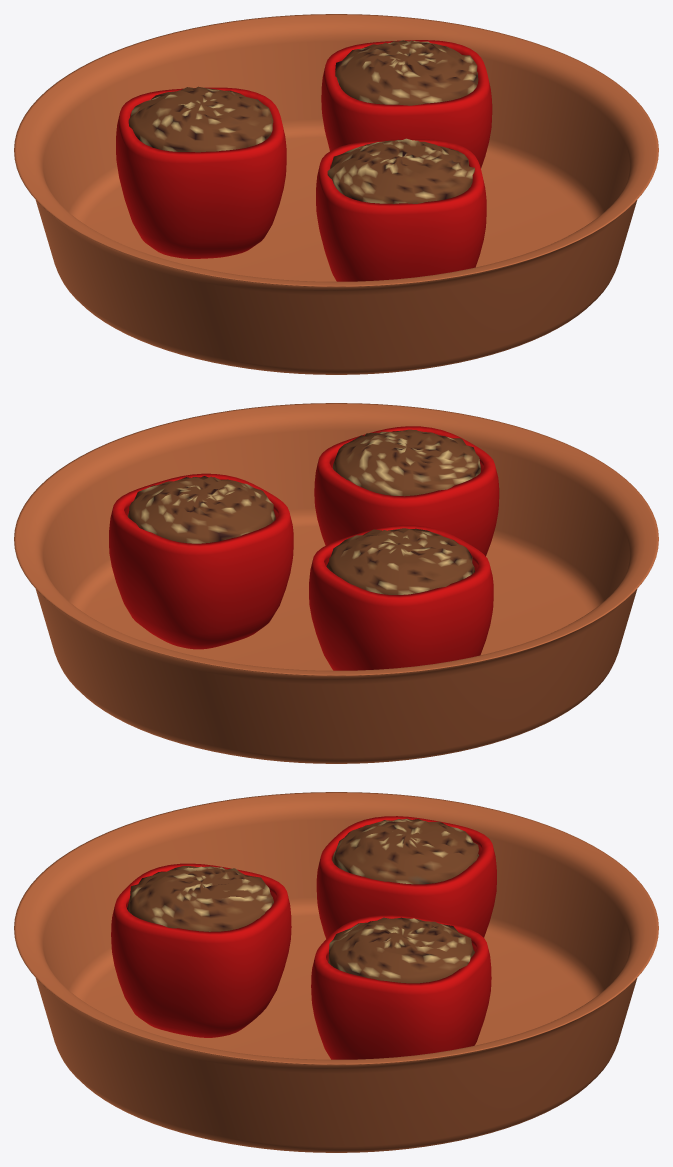
The model's file is paso-3.glb.
The picture shows the model from 3 angles, top to bottom: view 1: azimuth 30°, elevation 25°; view 2: azimuth 150°, elevation 25°; view 3: azimuth 270°, elevation 25°; orthographic projection.
Parts seen in each view (by area): view 1: paso-3-0, paso-3-3, paso-3-5, paso-3-1, paso-3-6, paso-3-4, paso-3-2; view 2: paso-3-0, paso-3-1, paso-3-3, paso-3-5, paso-3-6, paso-3-2, paso-3-4; view 3: paso-3-0, paso-3-5, paso-3-1, paso-3-3, paso-3-6, paso-3-2, paso-3-4.
Part boxes in pixels (left/top/right/bottom): paso-3-0: left=14, top=14, right=658, bottom=374; paso-3-3: left=116, top=87, right=286, bottom=258; paso-3-5: left=316, top=139, right=486, bottom=281; paso-3-1: left=321, top=40, right=492, bottom=168; paso-3-6: left=327, top=138, right=474, bottom=203; paso-3-4: left=128, top=86, right=273, bottom=152; paso-3-2: left=335, top=40, right=478, bottom=105; paso-3-0: left=14, top=403, right=658, bottom=763; paso-3-1: left=109, top=473, right=293, bottom=649; paso-3-3: left=309, top=525, right=493, bottom=670; paso-3-5: left=314, top=426, right=499, bottom=556; paso-3-6: left=332, top=429, right=480, bottom=496; paso-3-2: left=127, top=476, right=275, bottom=543; paso-3-4: left=326, top=528, right=474, bottom=594; paso-3-0: left=14, top=792, right=658, bottom=1152; paso-3-5: left=111, top=863, right=291, bottom=1037; paso-3-1: left=311, top=915, right=491, bottom=1059; paso-3-3: left=316, top=816, right=496, bottom=938; paso-3-6: left=127, top=866, right=273, bottom=931; paso-3-2: left=328, top=917, right=474, bottom=983; paso-3-4: left=332, top=818, right=478, bottom=884.
Size of the model in its own units: 0.248 by 0.0661 by 0.248.
